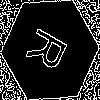R: (25, 25, 76, 78)
